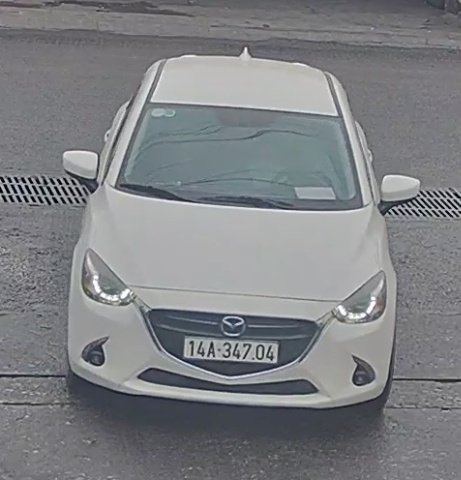vehicle plate: (181, 328, 286, 373)
